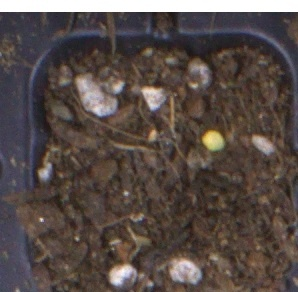chilli seed: (201, 129, 225, 151)
